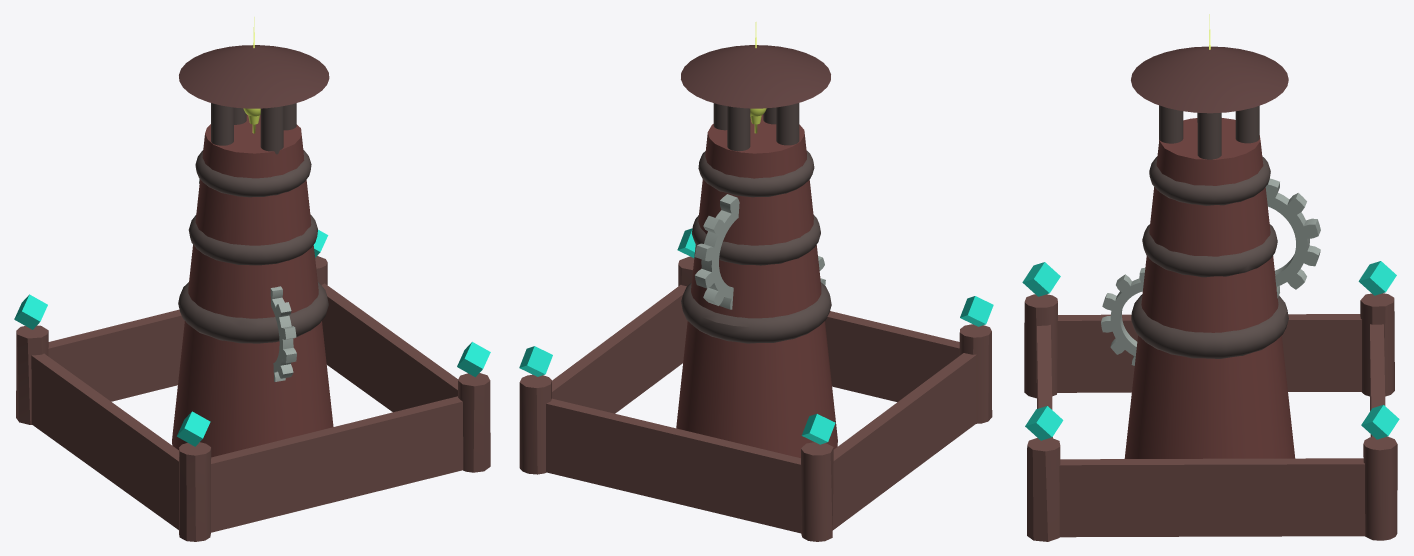
Rendered from Building22.fbx.
3 renders of one model, left to right at view 1: azimuth 30°, elevation 25°; view 2: azimuth 150°, elevation 25°; view 3: azimuth 270°, elevation 25°, orthographic. The views are drawn at different scales.
Parts seen in each view (by area): view 1: lighthouse; view 2: lighthouse; view 3: lighthouse.
Part boxes in pixels (box(x1,y1,x2,y2)): lighthouse: box(14, 17, 490, 541); lighthouse: box(519, 22, 993, 541); lighthouse: box(1022, 14, 1399, 541).
Size of the model in its own units: 1215 by 1602 by 1218.
Materials: 3 (1 with a texture image).
